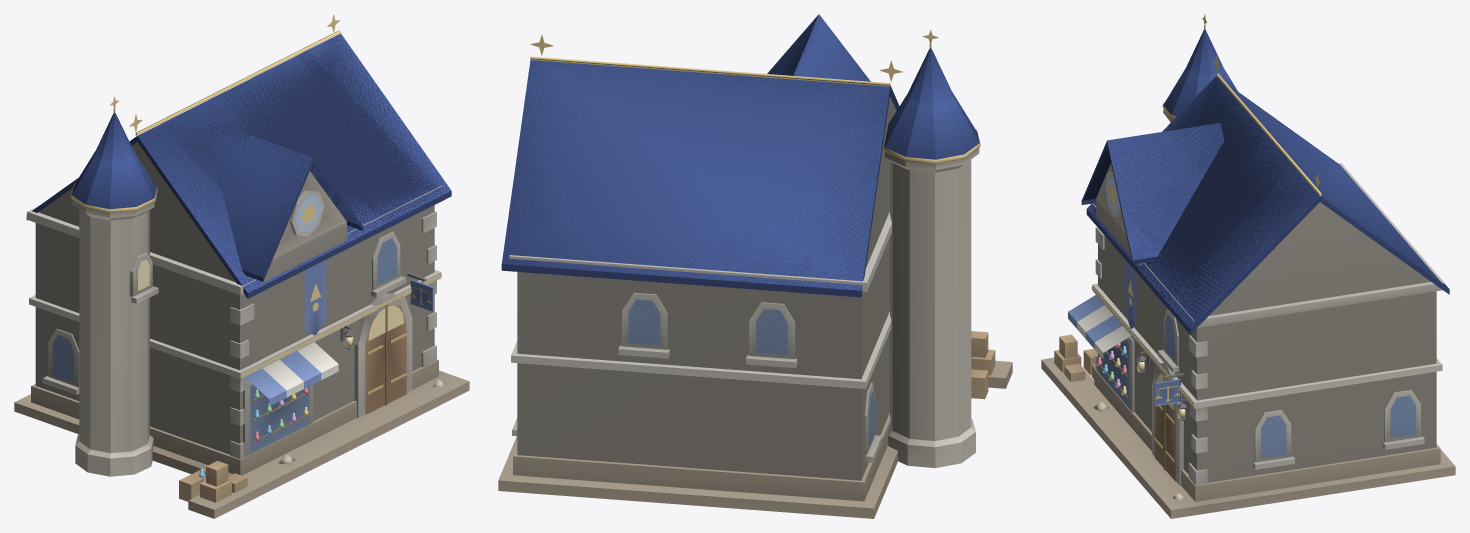
Rendered from guild_lite.glb.
The picture shows the model from 3 angles, left to right: view 1: azimuth 30°, elevation 25°; view 2: azimuth 150°, elevation 25°; view 3: azimuth 270°, elevation 25°; orthographic projection. The views are drawn at different scales.
Parts seen in each view (by area): view 1: Guild_stone, Guild_roof, Guild_props, Guild_glow; view 2: Guild_stone, Guild_roof, Guild_props; view 3: Guild_stone, Guild_roof, Guild_props, Guild_glow.
Part boxes in pixels (x1=…): Guild_stone: x1=14, y1=142, x2=469, y2=518; Guild_roof: x1=26, y1=33, x2=451, y2=298; Guild_props: x1=52, y1=15, x2=445, y2=502; Guild_glow: x1=138, y1=196, x2=404, y2=477; Guild_stone: x1=498, y1=97, x2=1012, y2=518; Guild_roof: x1=501, y1=14, x2=979, y2=297; Guild_props: x1=530, y1=30, x2=995, y2=447; Guild_stone: x1=1041, y1=108, x2=1455, y2=518; Guild_roof: x1=1081, y1=29, x2=1449, y2=334; Guild_props: x1=1054, y1=14, x2=1415, y2=500; Guild_glow: x1=1096, y1=177, x2=1185, y2=418.
Size of the model in its own units: 10.77 by 10 by 10.81.
